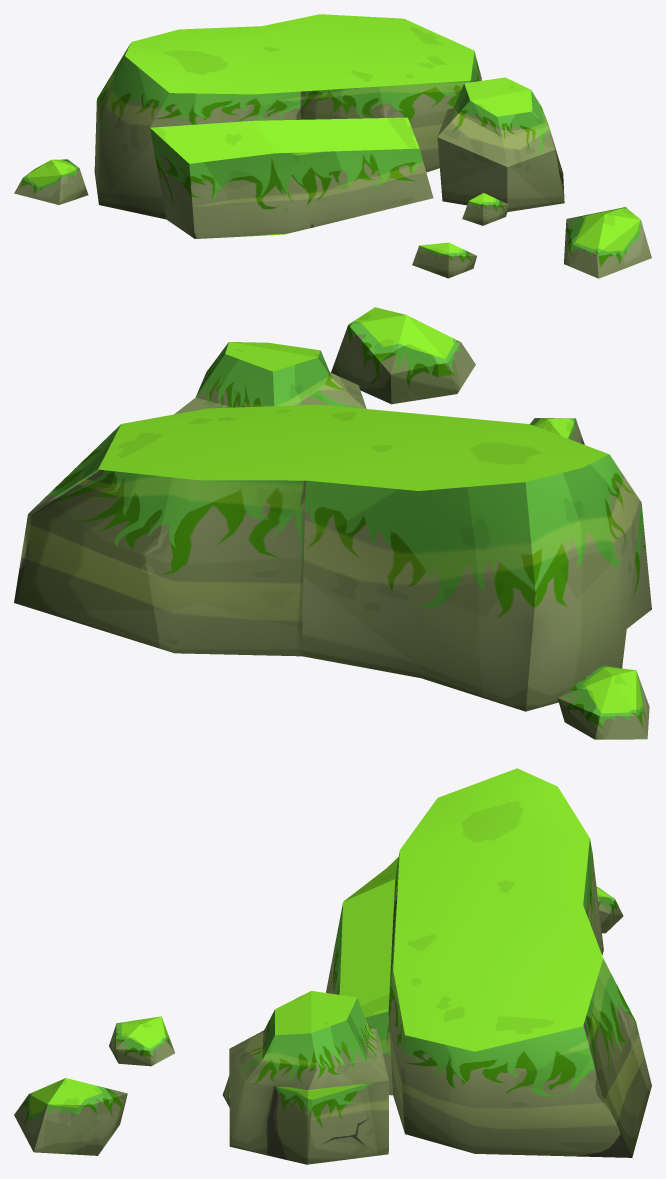
File: F_W_O_rock_020.fbx
3 views of the same model, one above another, from view 1: azimuth 30°, elevation 25°; view 2: azimuth 150°, elevation 25°; view 3: azimuth 270°, elevation 25° (orthographic). The views are drawn at different scales.
Parts seen in each view (by area): view 1: F_W_O_rock_020; view 2: F_W_O_rock_020; view 3: F_W_O_rock_020.
Boxes of the visible parts, x1,y1,x2,y2 form: F_W_O_rock_020: (14, 14, 651, 278); F_W_O_rock_020: (14, 307, 651, 739); F_W_O_rock_020: (14, 768, 651, 1164).
Size of the model in its own units: 9.04 by 2.86 by 9.21.
